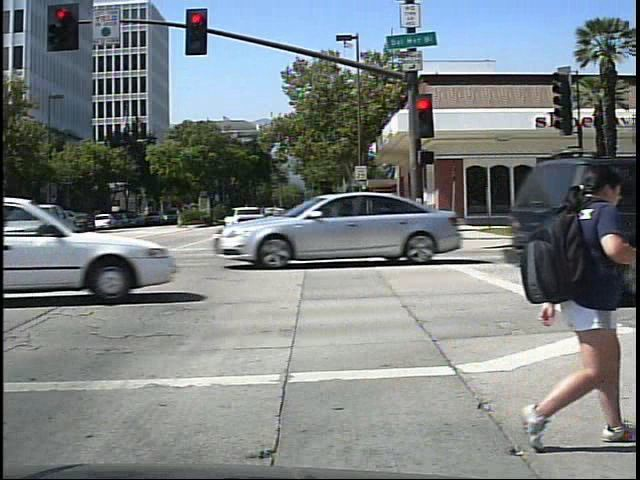person: (508, 128, 637, 460)
